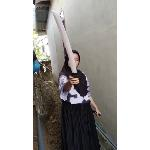Pedang: (48, 8, 80, 90)
